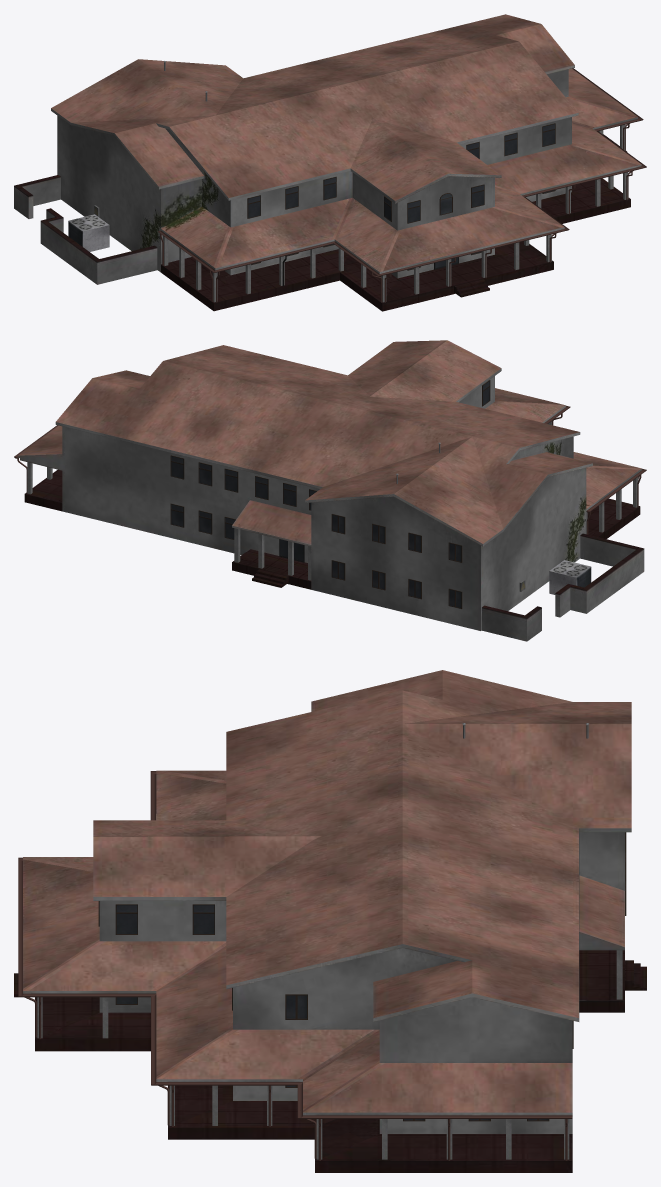
File: city_house_3.glb
3 views of the same model, one above another, from view 1: azimuth 30°, elevation 25°; view 2: azimuth 150°, elevation 25°; view 3: azimuth 270°, elevation 25° (orthographic). The views are drawn at different scales.
Visible parts, largest first — view 1: CityHouse3; view 2: CityHouse3; view 3: CityHouse3.
Boxes of the visible parts, left/top/right/bottom form: CityHouse3: left=14, top=14, right=646, bottom=311; CityHouse3: left=14, top=340, right=646, bottom=641; CityHouse3: left=14, top=670, right=646, bottom=1172.
Size of the model in its own units: 43.53 by 9.5 by 29.99.
1 material, 1 textured.
